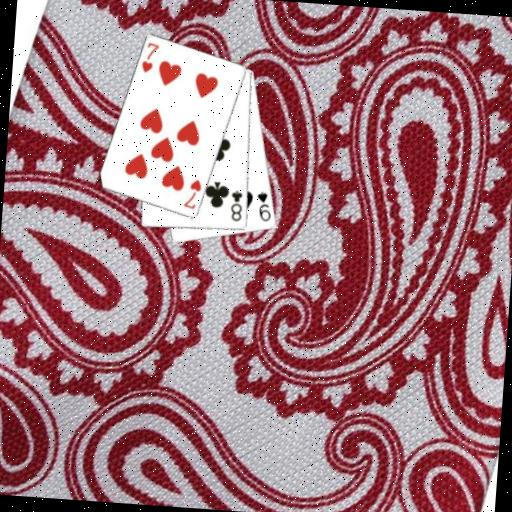7H: (180, 176, 204, 212), (138, 39, 161, 75)
8C: (227, 187, 245, 223)
9S: (253, 189, 274, 224)
